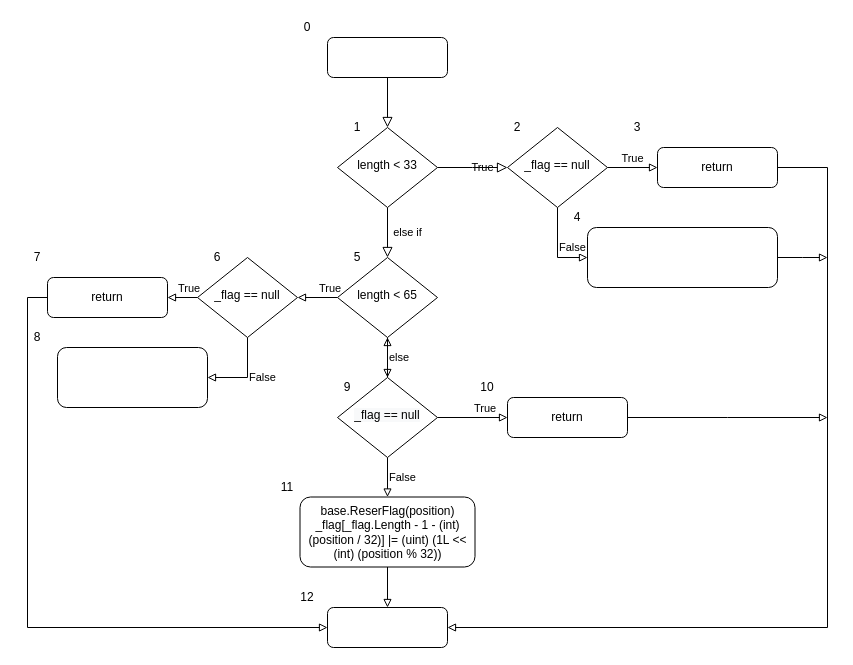
The diagram is 853 pixels wide and 665 high, and some of its shapes have lost their labels. The shapes that lost their labels are listed below. From the top down, each one's centre as x and y in pixels, then its label:
the point at 387,57: constructor MultipleBinaryFlag
the point at 682,257: base.ResetFlag(position) _flag &= uint.MaxValue ^ (uint) (1L << (int) position)
the point at 132,377: base.ResetFlag(position) _flag |= (ulong) (1L << (int) position)
the point at 387,627: END
